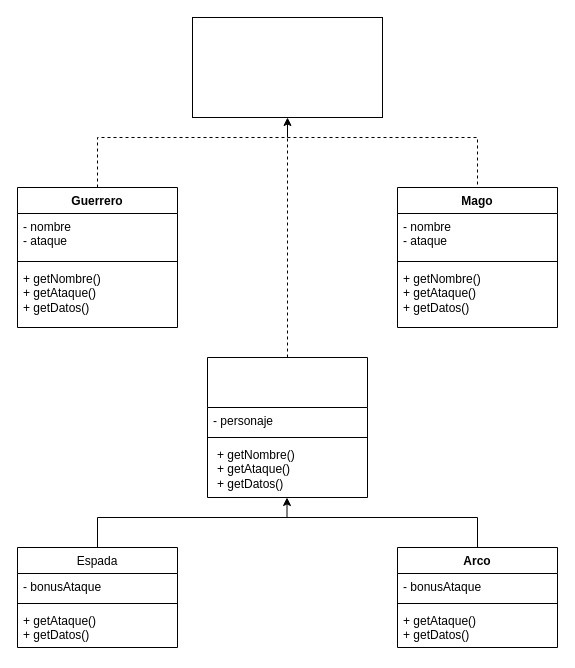
This 575x668 diagram has some shape labels left out. The box of each missing label's shape, as (x1, y1, x2, y2) in pixels:
<<abstract>> ArmaDecorator: (206, 356, 368, 498)
<<Interface>> Personaje + getNombre() + getAtaque() + getDatos(): (192, 16, 382, 118)
